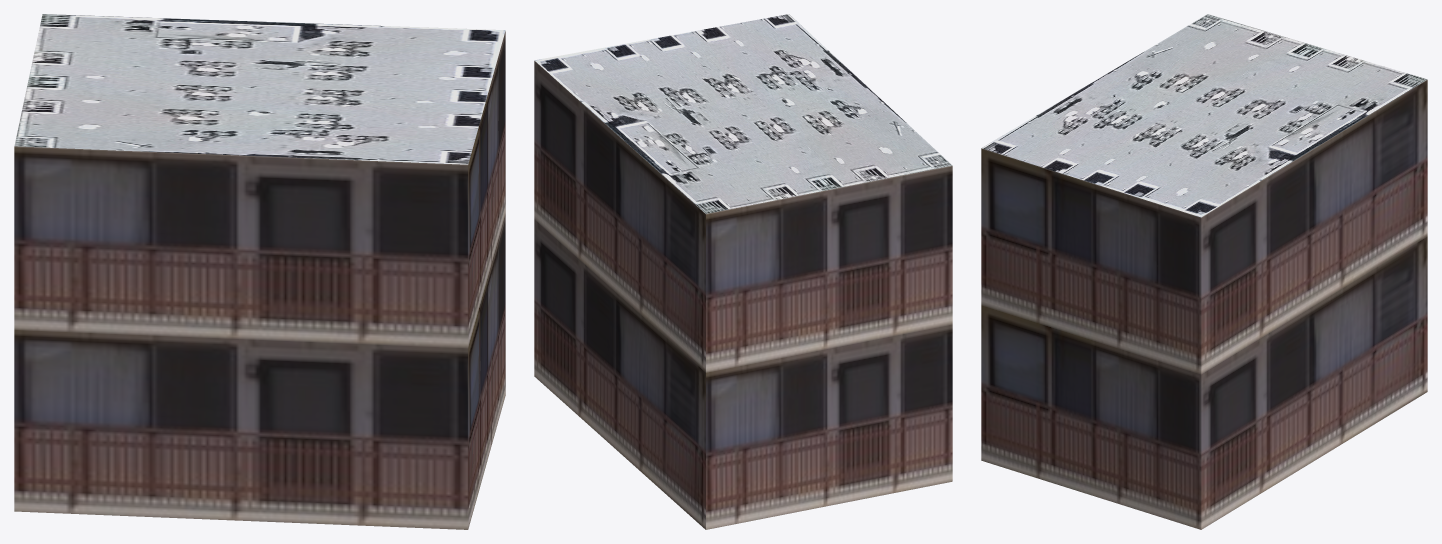
File: ResTex__333.fbx
3 views of the same model, side by side, from view 1: azimuth 30°, elevation 25°; view 2: azimuth 150°, elevation 25°; view 3: azimuth 270°, elevation 25° (orthographic). The views are drawn at different scales.
Visible parts, largest first — view 1: CityEngineMaterial_6_m, CityEngineMaterial_4_m; view 2: CityEngineMaterial_6_m, CityEngineMaterial_4_m; view 3: CityEngineMaterial_6_m, CityEngineMaterial_4_m.
Boxes of the visible parts, box(x1,y1,x2,y2) form: CityEngineMaterial_6_m: box(14, 31, 505, 529); CityEngineMaterial_4_m: box(14, 14, 505, 164); CityEngineMaterial_6_m: box(534, 61, 952, 529); CityEngineMaterial_4_m: box(534, 14, 952, 213); CityEngineMaterial_6_m: box(981, 80, 1427, 529); CityEngineMaterial_4_m: box(981, 14, 1427, 217).
Bounding box in the file's own units: 8.38 × 6 × 7.77.
2 materials, 2 textured.
